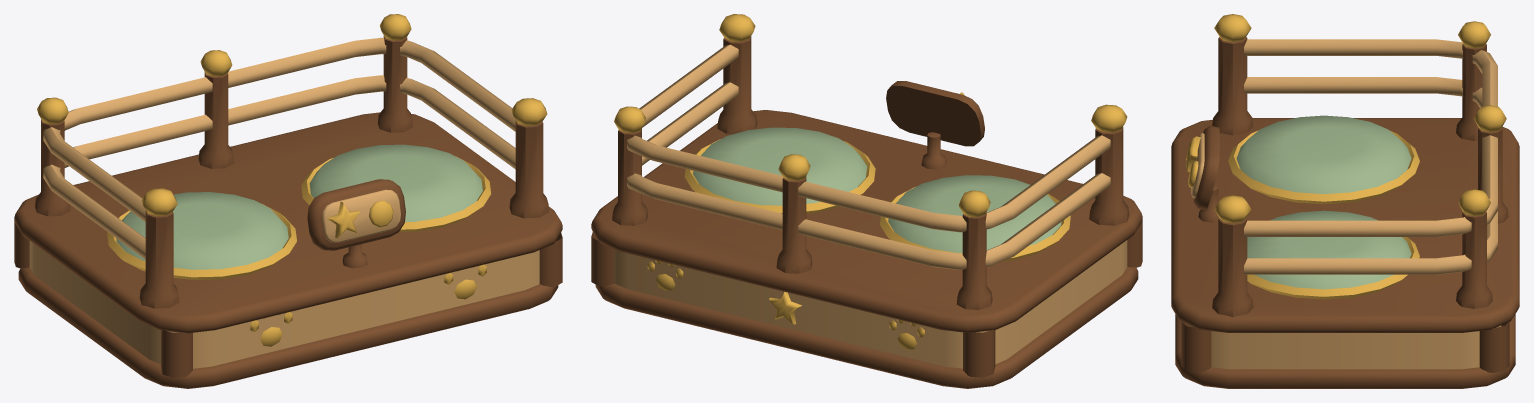
File: ShopShowcaseWindow.fbx
3 views of the same model, side by side, from view 1: azimuth 30°, elevation 25°; view 2: azimuth 150°, elevation 25°; view 3: azimuth 270°, elevation 25° (orthographic).
Visible parts, largest first — view 1: ShopShowcaseWindow; view 2: ShopShowcaseWindow; view 3: ShopShowcaseWindow.
Boxes of the visible parts, x1,y1,x2,y2 form: ShopShowcaseWindow: [14, 14, 562, 388]; ShopShowcaseWindow: [591, 14, 1142, 388]; ShopShowcaseWindow: [1171, 14, 1519, 388].
Size of the model in its own units: 1.8 by 0.755 by 1.3.
